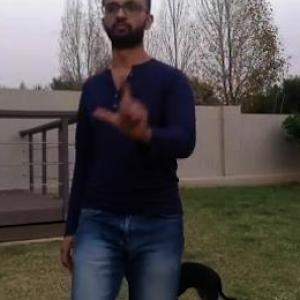land_hand: (91, 68, 150, 137)
